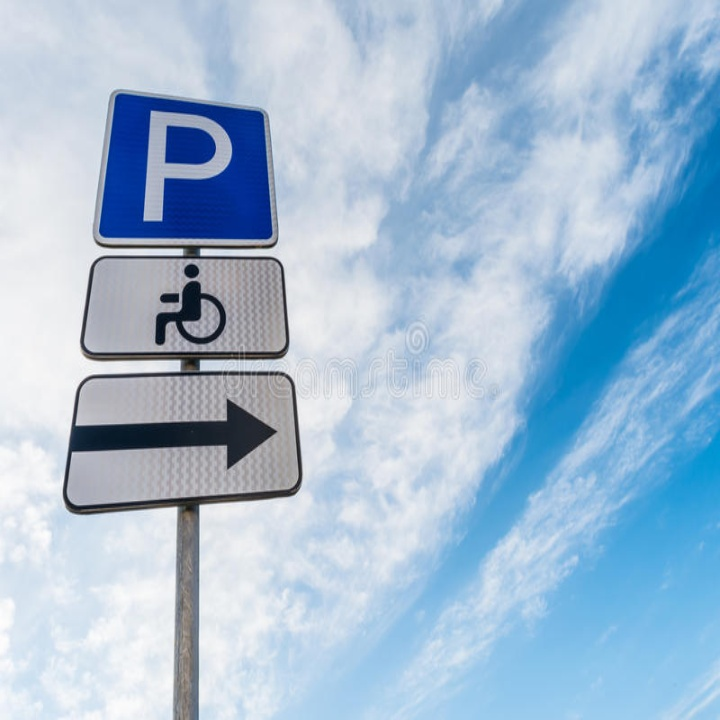parking: (135, 106, 240, 227)
